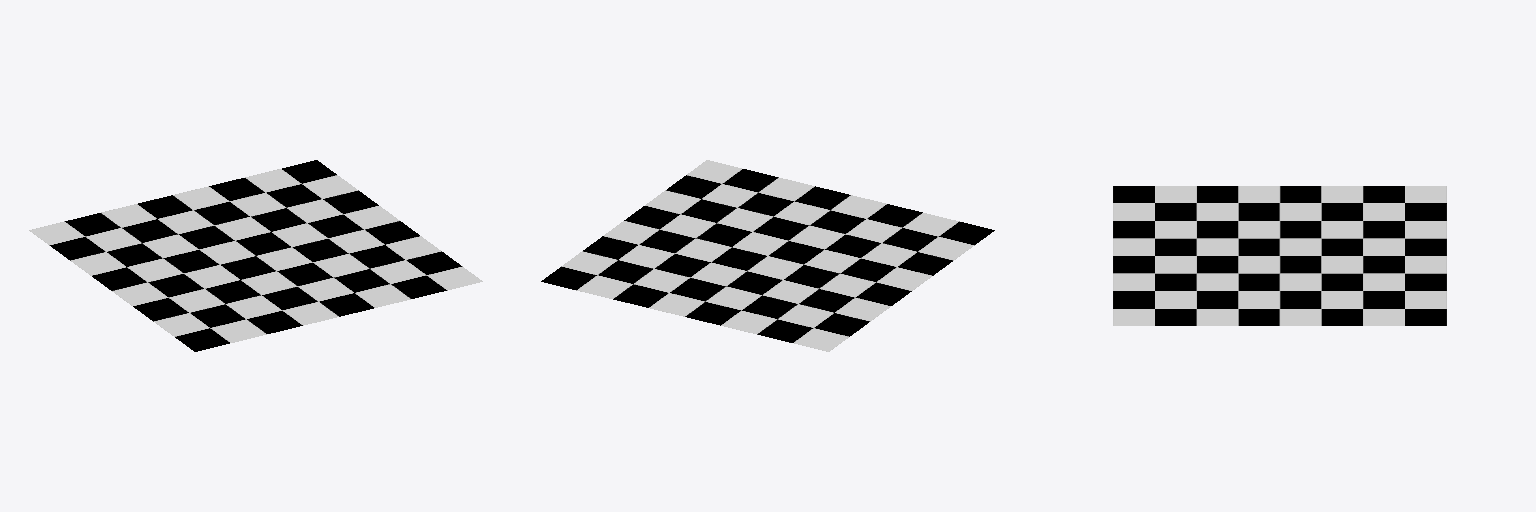
3 views of the same model, side by side, from view 1: azimuth 30°, elevation 25°; view 2: azimuth 150°, elevation 25°; view 3: azimuth 270°, elevation 25° (orthographic).
Parts seen in each view (by area): view 1: Plane; view 2: Plane; view 3: Plane.
Part boxes in pixels (x1,y1,x2,y2): Plane: (29, 160, 482, 351); Plane: (541, 160, 994, 351); Plane: (1113, 186, 1446, 325).
Bounding box in the file's own units: 2 × 0 × 2.
Materials: 1 (1 with a texture image).